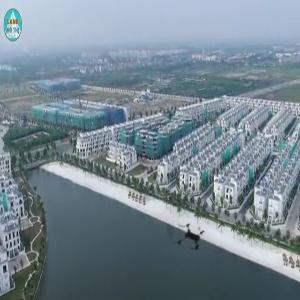drone: (159, 203, 226, 270)
